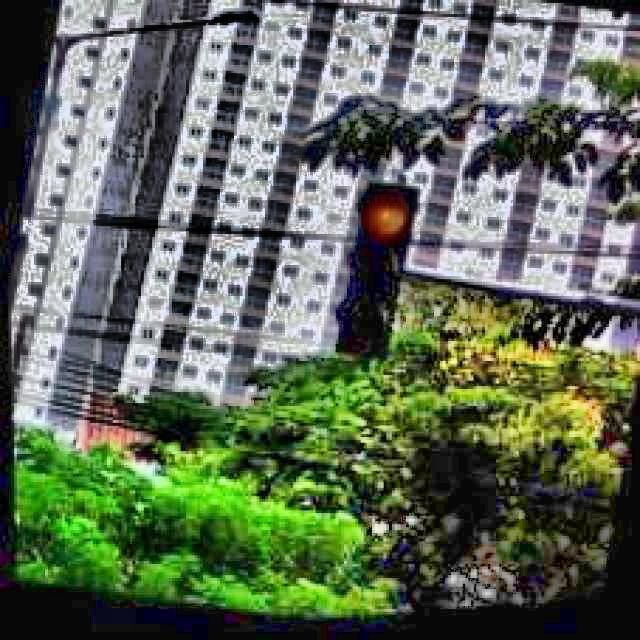red: (335, 184, 417, 354)
